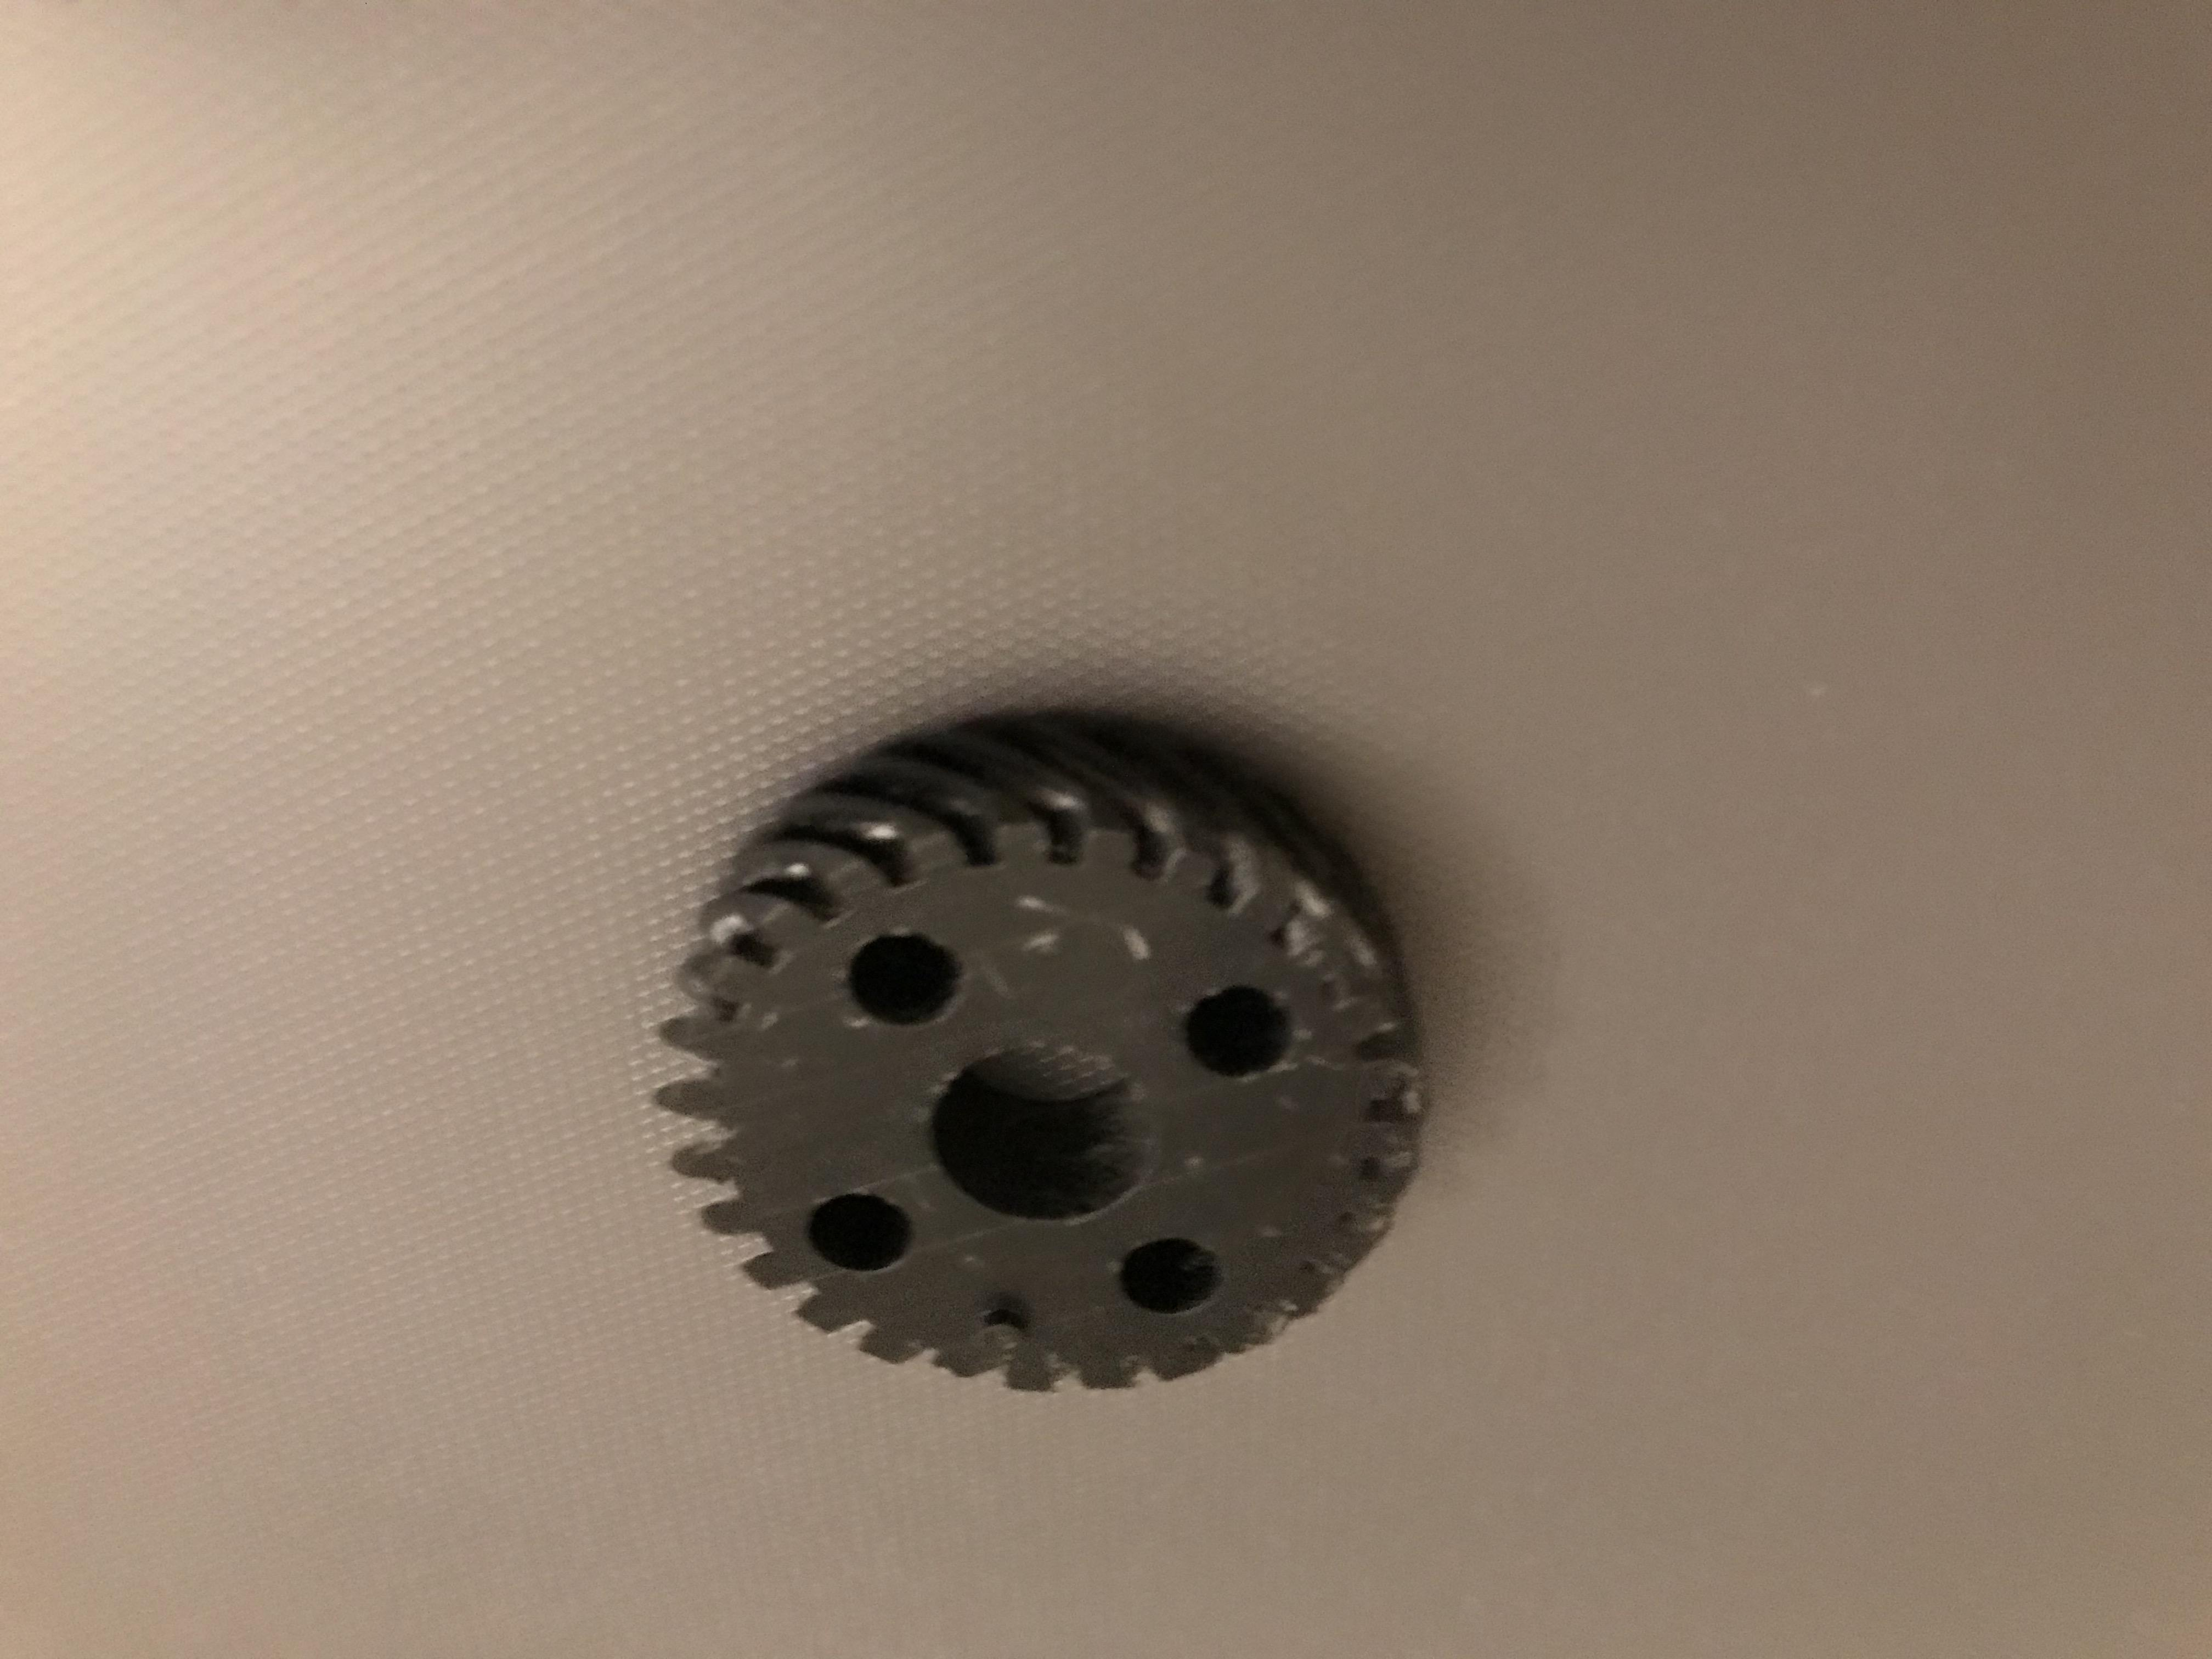Wheel: (646, 708, 1435, 1396)
